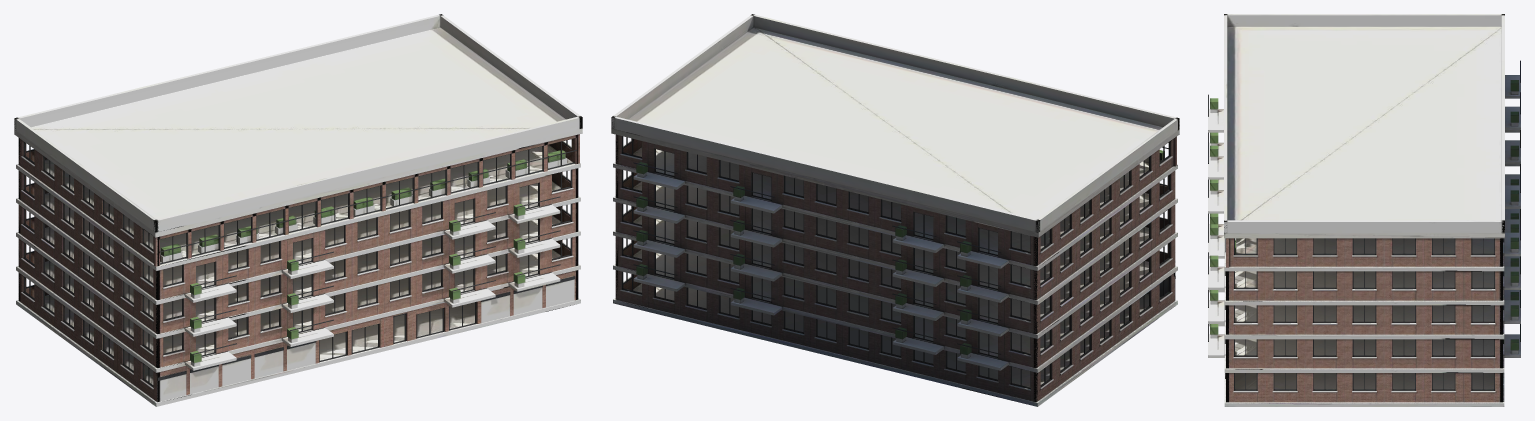
File: fachada.glb
The picture shows the model from 3 angles, left to right: view 1: azimuth 30°, elevation 25°; view 2: azimuth 150°, elevation 25°; view 3: azimuth 270°, elevation 25°; orthographic projection.
Parts seen in each view (by area): view 1: cubierta, piso-4-fachada, piso-3-fachada, piso-2-fachada, piso-1-fachada, piso-5-fachada, piso-5-losa, piso-4-losa, piso-3-losa, piso-2-losa, piso-1-losa; view 2: cubierta, piso-5-fachada, piso-4-fachada, piso-3-fachada, piso-2-fachada, piso-1-fachada, piso-5-losa, piso-1-losa, piso-2-losa, piso-3-losa, piso-4-losa; view 3: cubierta, piso-4-fachada, piso-3-fachada, piso-2-fachada, piso-5-fachada, piso-1-fachada, piso-3-losa, piso-4-losa, piso-5-losa, piso-1-losa, piso-2-losa.
Boxes of the visible parts, x1,y1,x2,y2 form: cubierta: (14, 14, 582, 237); piso-4-fachada: (18, 168, 578, 302); piso-3-fachada: (18, 202, 578, 336); piso-2-fachada: (18, 236, 578, 370); piso-1-fachada: (18, 270, 578, 402); piso-5-fachada: (18, 134, 579, 266); piso-5-losa: (16, 144, 580, 270); piso-4-losa: (16, 181, 580, 304); piso-3-losa: (16, 215, 580, 338); piso-2-losa: (16, 249, 580, 372); piso-1-losa: (16, 295, 580, 406); cubierta: (611, 14, 1179, 237); piso-5-fachada: (615, 134, 1176, 268); piso-4-fachada: (615, 168, 1175, 302); piso-3-fachada: (615, 202, 1175, 336); piso-2-fachada: (615, 236, 1175, 370); piso-1-fachada: (615, 270, 1175, 402); piso-5-losa: (613, 147, 1177, 270); piso-1-losa: (613, 283, 1177, 406); piso-2-losa: (613, 249, 1177, 372); piso-3-losa: (613, 215, 1177, 338); piso-4-losa: (613, 181, 1177, 304); cubierta: (1224, 14, 1504, 238); piso-4-fachada: (1208, 94, 1520, 300); piso-3-fachada: (1208, 132, 1520, 334); piso-2-fachada: (1208, 179, 1520, 368); piso-5-fachada: (1225, 60, 1520, 267); piso-1-fachada: (1225, 373, 1504, 402); piso-3-losa: (1224, 305, 1504, 339); piso-4-losa: (1224, 271, 1504, 305); piso-5-losa: (1224, 238, 1504, 271); piso-1-losa: (1224, 373, 1504, 406); piso-2-losa: (1224, 339, 1504, 372).
Bounding box in the file's own units: 35.52 × 14.8 × 22.6.
11 materials, 11 textured.
